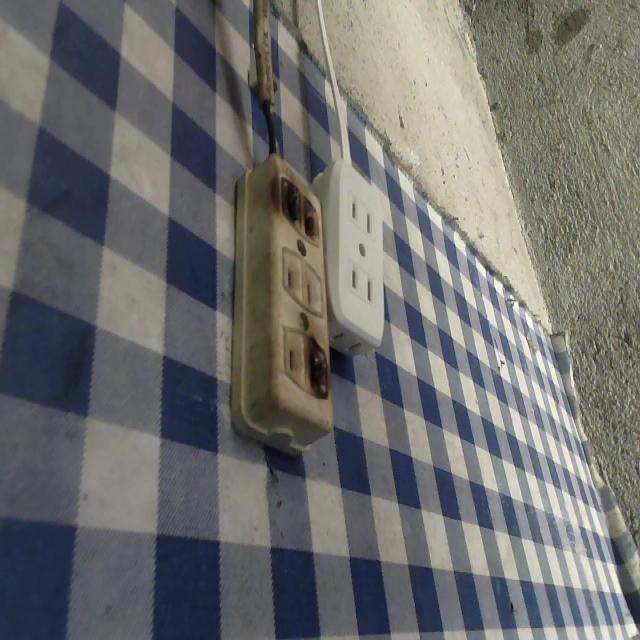-: (273, 173, 328, 240), (304, 332, 333, 401)
